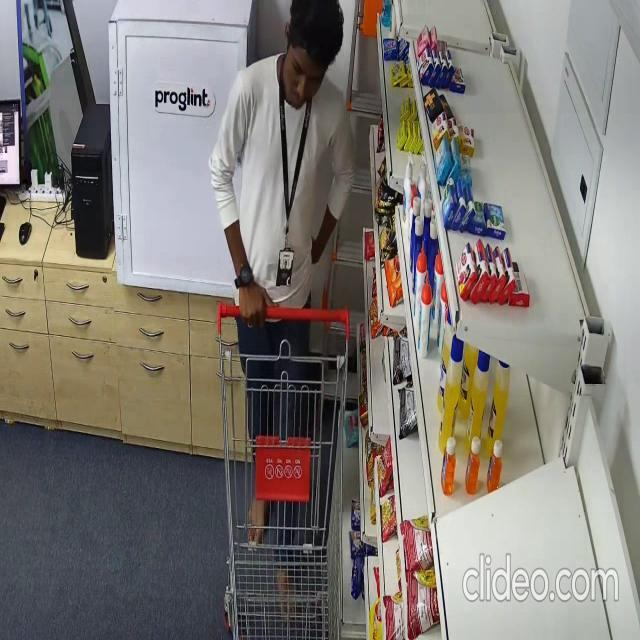Shoplifting: (209, 0, 356, 621)
